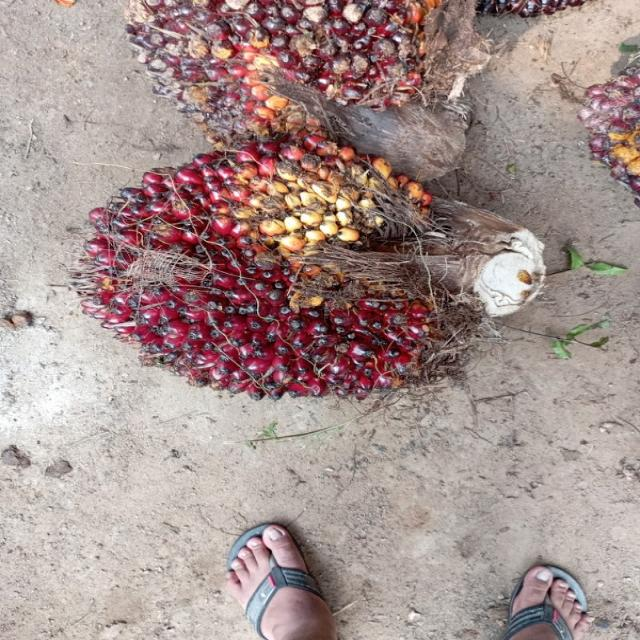fraksi 1: (119, 0, 488, 142)
fraksi 3: (79, 130, 474, 402)
